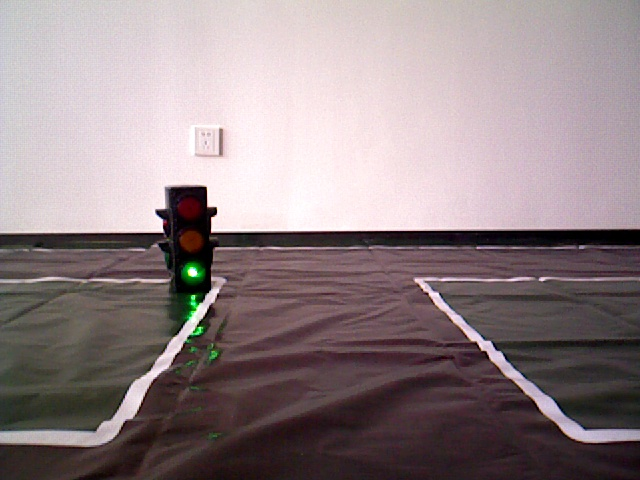green: (165, 189, 207, 289)
